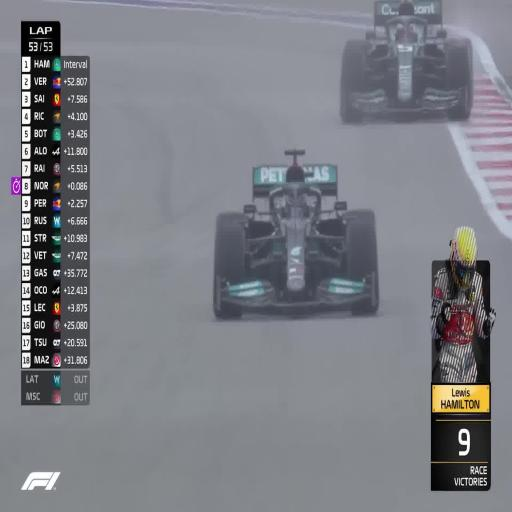f1_car: (213, 149, 379, 318), (340, 0, 473, 121)
